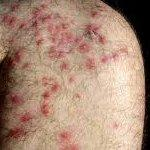Ants: (48, 23, 77, 57), (82, 21, 109, 48), (29, 19, 47, 46), (4, 49, 26, 69), (31, 4, 56, 21), (58, 131, 79, 149), (7, 91, 24, 108), (39, 101, 54, 116), (85, 58, 102, 71), (8, 127, 27, 138), (40, 88, 53, 103), (18, 111, 32, 124), (2, 15, 16, 25), (91, 5, 101, 19), (76, 42, 88, 53), (50, 83, 60, 93), (9, 2, 20, 11), (68, 75, 76, 86), (102, 54, 109, 64), (22, 63, 32, 70), (112, 52, 119, 61), (60, 62, 69, 69), (43, 77, 52, 84), (19, 22, 25, 29)
